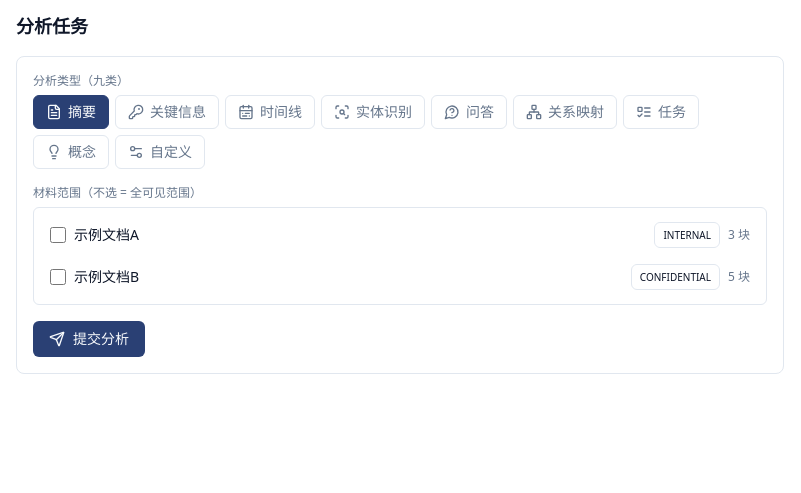
Test: 进度轮询与终态 › 提交即 400 -> 错误盒展示后端 detail
Click the checkbox labelled "示例文档A INTERNAL 3 块": click(58, 235) [50,227,66,243]
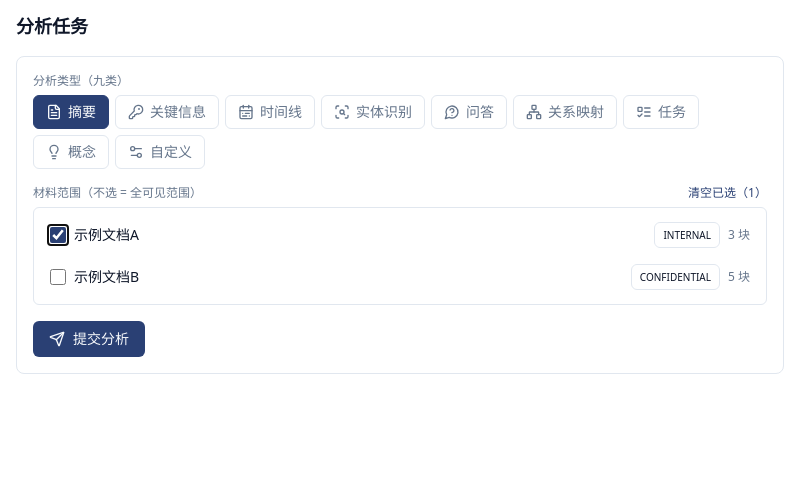
Click the button "提交分析": click(89, 339) [33,321,145,357]
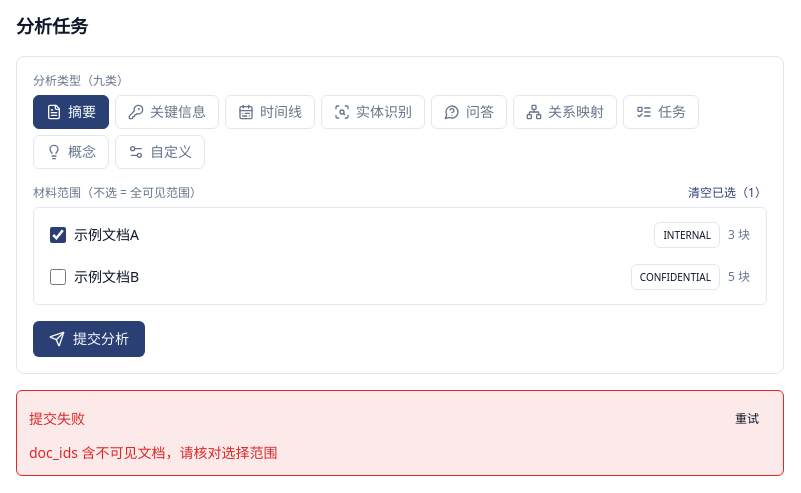
Expected: the text "doc_ids 含不可见文档，请核对选择范围" is shown, [29,443,278,462]
